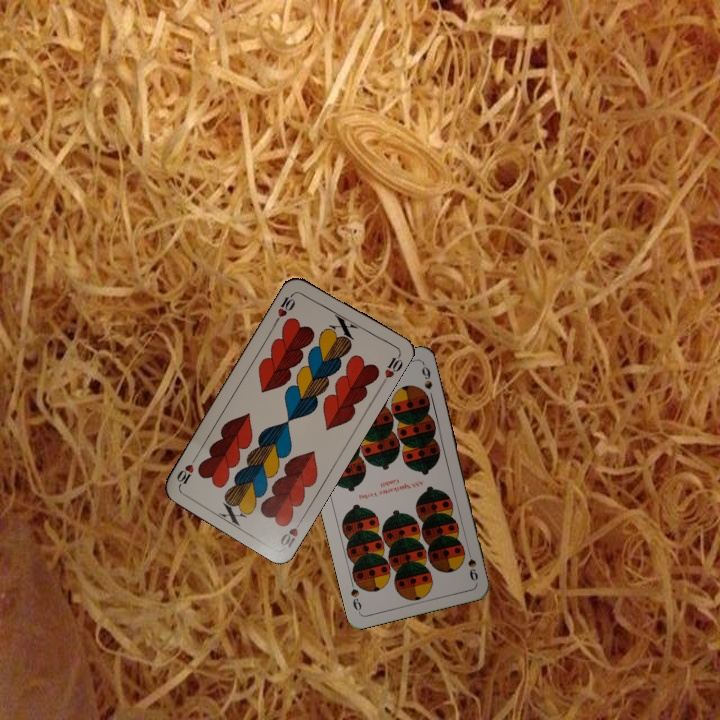H10: (276, 514, 306, 551), (271, 288, 298, 325)
S9: (464, 544, 481, 584)
